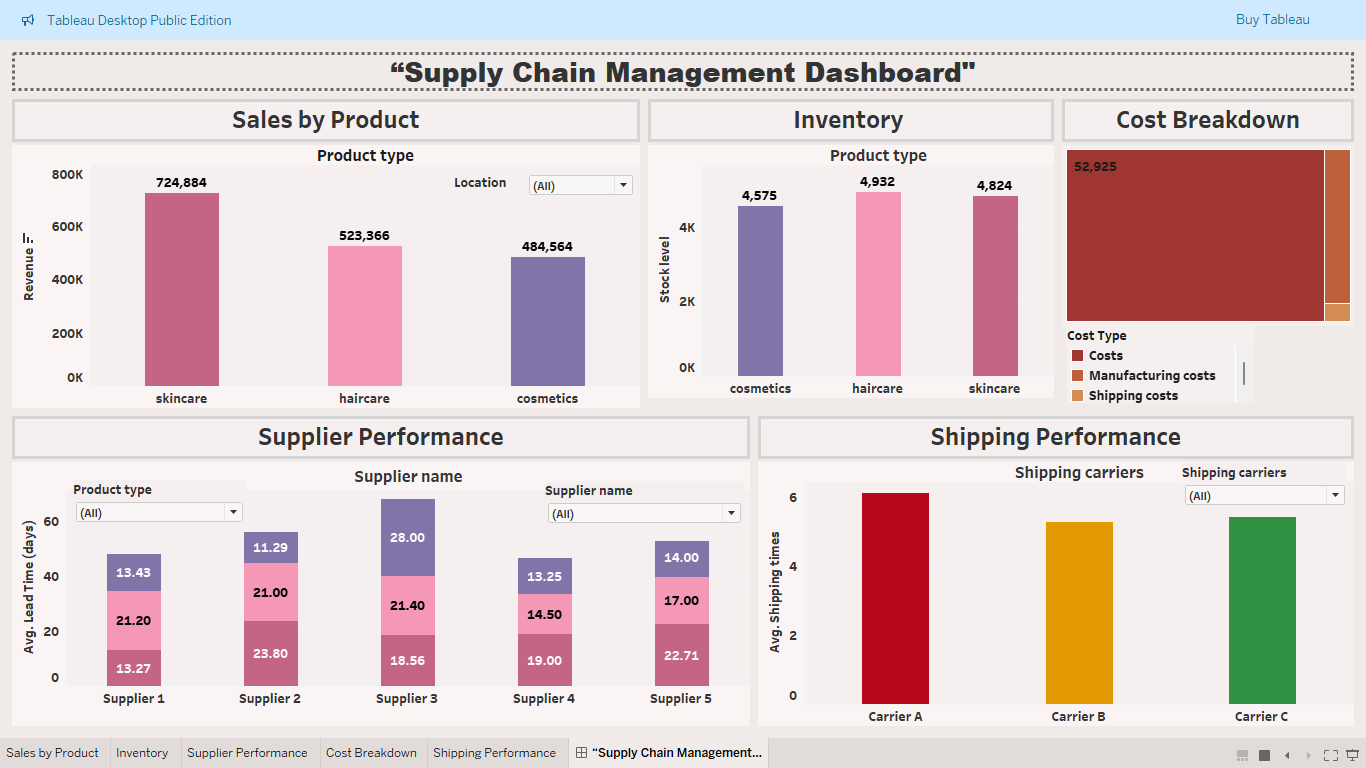

Layout of this report page (visuals, bound fields, positions):
{"tool":"tableau","page":{"name":"“Supply Chain Management Dashboard\"","canvas":[1000,1000],"units":"permille","ordinal":0},"visuals":[{"type":"title","box":[6.9,14.7,986.1,86.4]},{"type":"worksheet","title":"Sales by Product","mark":"Bar","rows":["Revenue generated"],"cols":["Product type"],"box":[6.9,101.1,464.5,441.8]},{"type":"worksheet","title":"Inventory ","mark":"Automatic","rows":["Stock levels"],"cols":["Product type"],"box":[471.4,101.1,302.4,441.8]},{"type":"worksheet","title":"Cost Breakdown","mark":"Automatic","box":[773.8,101.1,219.2,441.8]},{"type":"filter","title":"Supplier Performance","param":"[federated.0o9aemu07sv6ia159gkcd1ihtjn2].[none:Location:nk]","box":[332.5,189.3,133.3,42.3]},{"type":"legend","title":"Cost Breakdown","param":"[federated.0o9aemu07sv6ia159gkcd1ihtjn2].[none:Pivot Field Names:nk]","box":[781,409.9,136.8,110.3]},{"type":"worksheet","title":"Supplier Performance","mark":"Automatic","rows":["Lead time"],"cols":["Supplier name"],"box":[6.9,542.9,545.2,442.4]},{"type":"worksheet","title":"Shipping Performance","mark":"Automatic","rows":["Shipping times"],"cols":["Shipping carriers"],"box":[552.2,542.9,440.9,442.4]},{"type":"filter","title":"Shipping Performance","param":"[federated.0o9aemu07sv6ia159gkcd1ihtjn2].[none:Shipping carriers:nk]","box":[864.9,606.6,121.2,77.2]},{"type":"filter","title":"Sales by Product","param":"[federated.0o9aemu07sv6ia159gkcd1ihtjn2].[none:Product type:nk]","box":[53.7,630.5,126.4,73.5]},{"type":"filter","title":"Supplier Performance","param":"[federated.0o9aemu07sv6ia159gkcd1ihtjn2].[none:Supplier name:nk]","box":[399.1,632.4,145.5,86.4]}]}

Visuals, with their boxes on the dashboard's canvas, which has no fixed pixel size, in thousandths of its width and height (x1, y1, x2, y2). These are canvas units, not pixel positions in the 1366x768 screenshot, which may show the page scaled, cropped or inside an application window:
title: rect(7, 15, 993, 101)
"Sales by Product" worksheet (Bar marks): rect(7, 101, 471, 543)
"Inventory " worksheet: rect(471, 101, 774, 543)
"Cost Breakdown" worksheet: rect(774, 101, 993, 543)
"Supplier Performance" filter: rect(332, 189, 466, 232)
"Cost Breakdown" legend: rect(781, 410, 918, 520)
"Supplier Performance" worksheet: rect(7, 543, 552, 985)
"Shipping Performance" worksheet: rect(552, 543, 993, 985)
"Shipping Performance" filter: rect(865, 607, 986, 684)
"Sales by Product" filter: rect(54, 630, 180, 704)
"Supplier Performance" filter: rect(399, 632, 545, 719)
